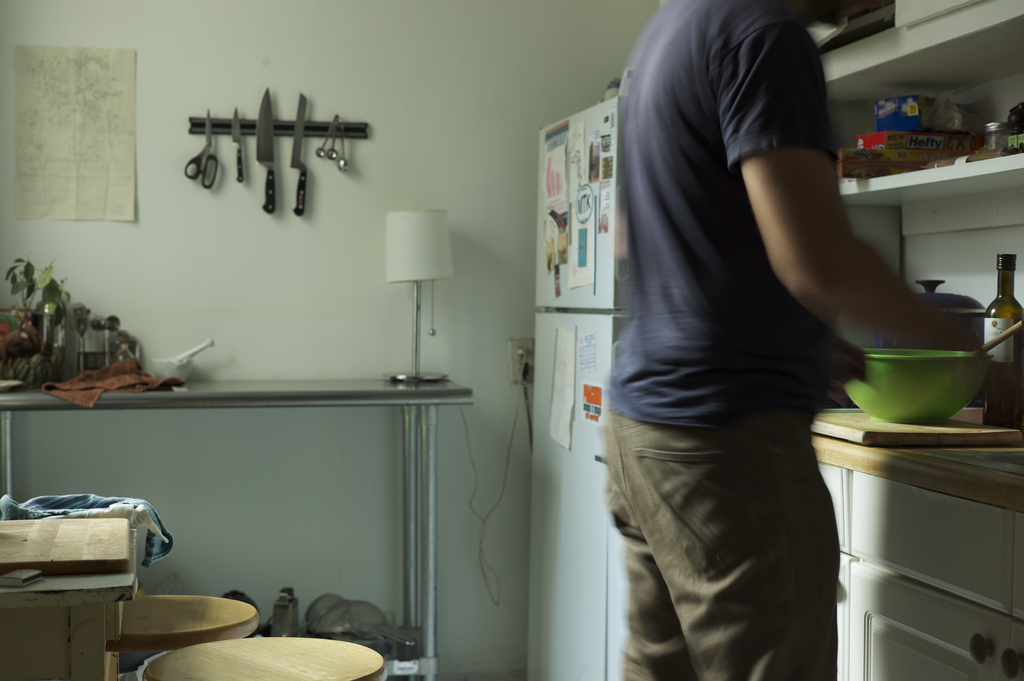cabinet door: (850, 569, 986, 681)
handle: (959, 627, 999, 673), (996, 646, 1024, 680)
refrigerator door: (527, 318, 614, 681), (532, 127, 612, 307)
